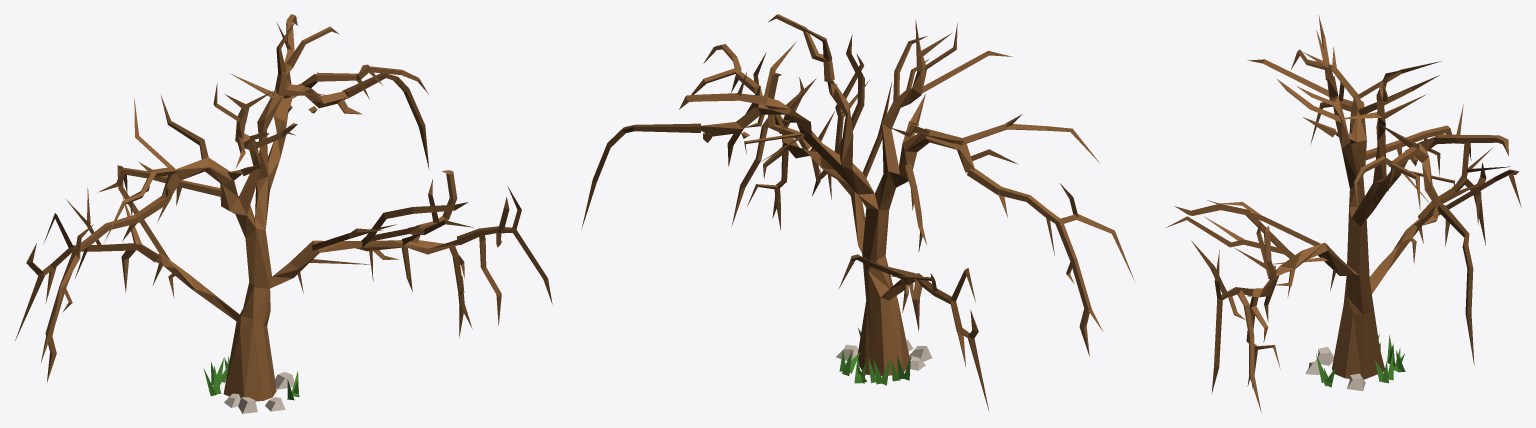
The model's file is elm_2_bare.glb.
3 views of the same model, side by side, from view 1: azimuth 30°, elevation 25°; view 2: azimuth 150°, elevation 25°; view 3: azimuth 270°, elevation 25° (orthographic). The views are drawn at different scales.
Visible parts, largest first — view 1: elm_2_bare; view 2: elm_2_bare; view 3: elm_2_bare.
Boxes of the visible parts, x1,y1,x2,y2 form: elm_2_bare: [15, 14, 552, 413]; elm_2_bare: [581, 14, 1134, 411]; elm_2_bare: [1166, 15, 1521, 412].
Bounding box in the file's own units: 8.3 × 5.89 × 5.67.
